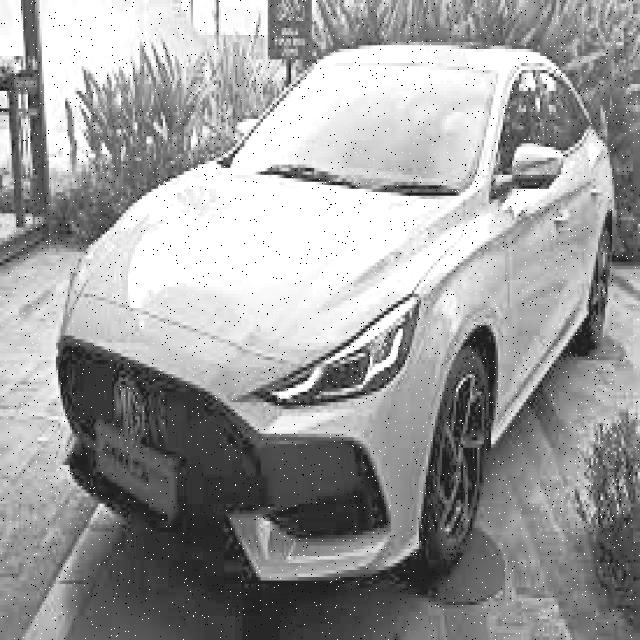Car: (57, 32, 625, 606)
